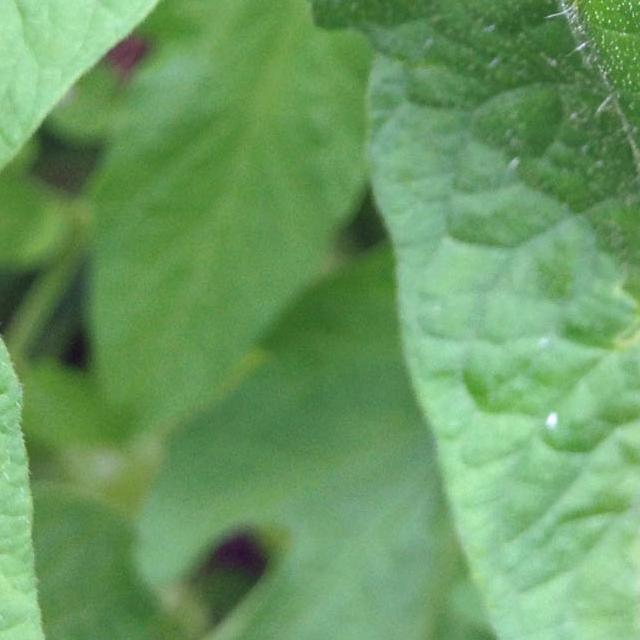Tomato leaf late blight: (224, 0, 640, 640)
